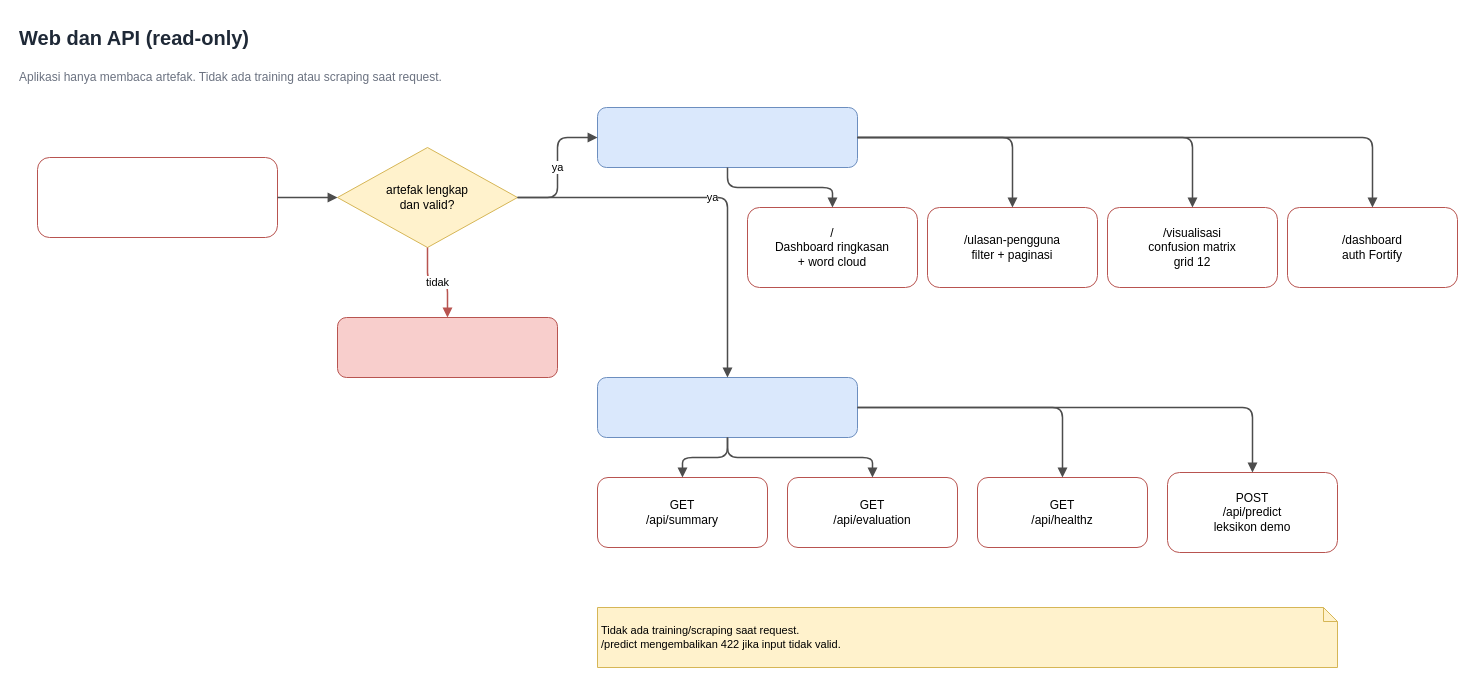
This 1475x685 diagram has some shape labels left out. The shapes that lost their labels are listed below. From the top down, each one's centre as x and y in pixels, then its label:
At [727,137]: "Halaman Web (Inertia)".
At [157,197]: "ArtifactRepository baca artefak dari disk".
At [447,347]: "UI: empty state API: HTTP 503".
At [727,407]: "API read-only".
